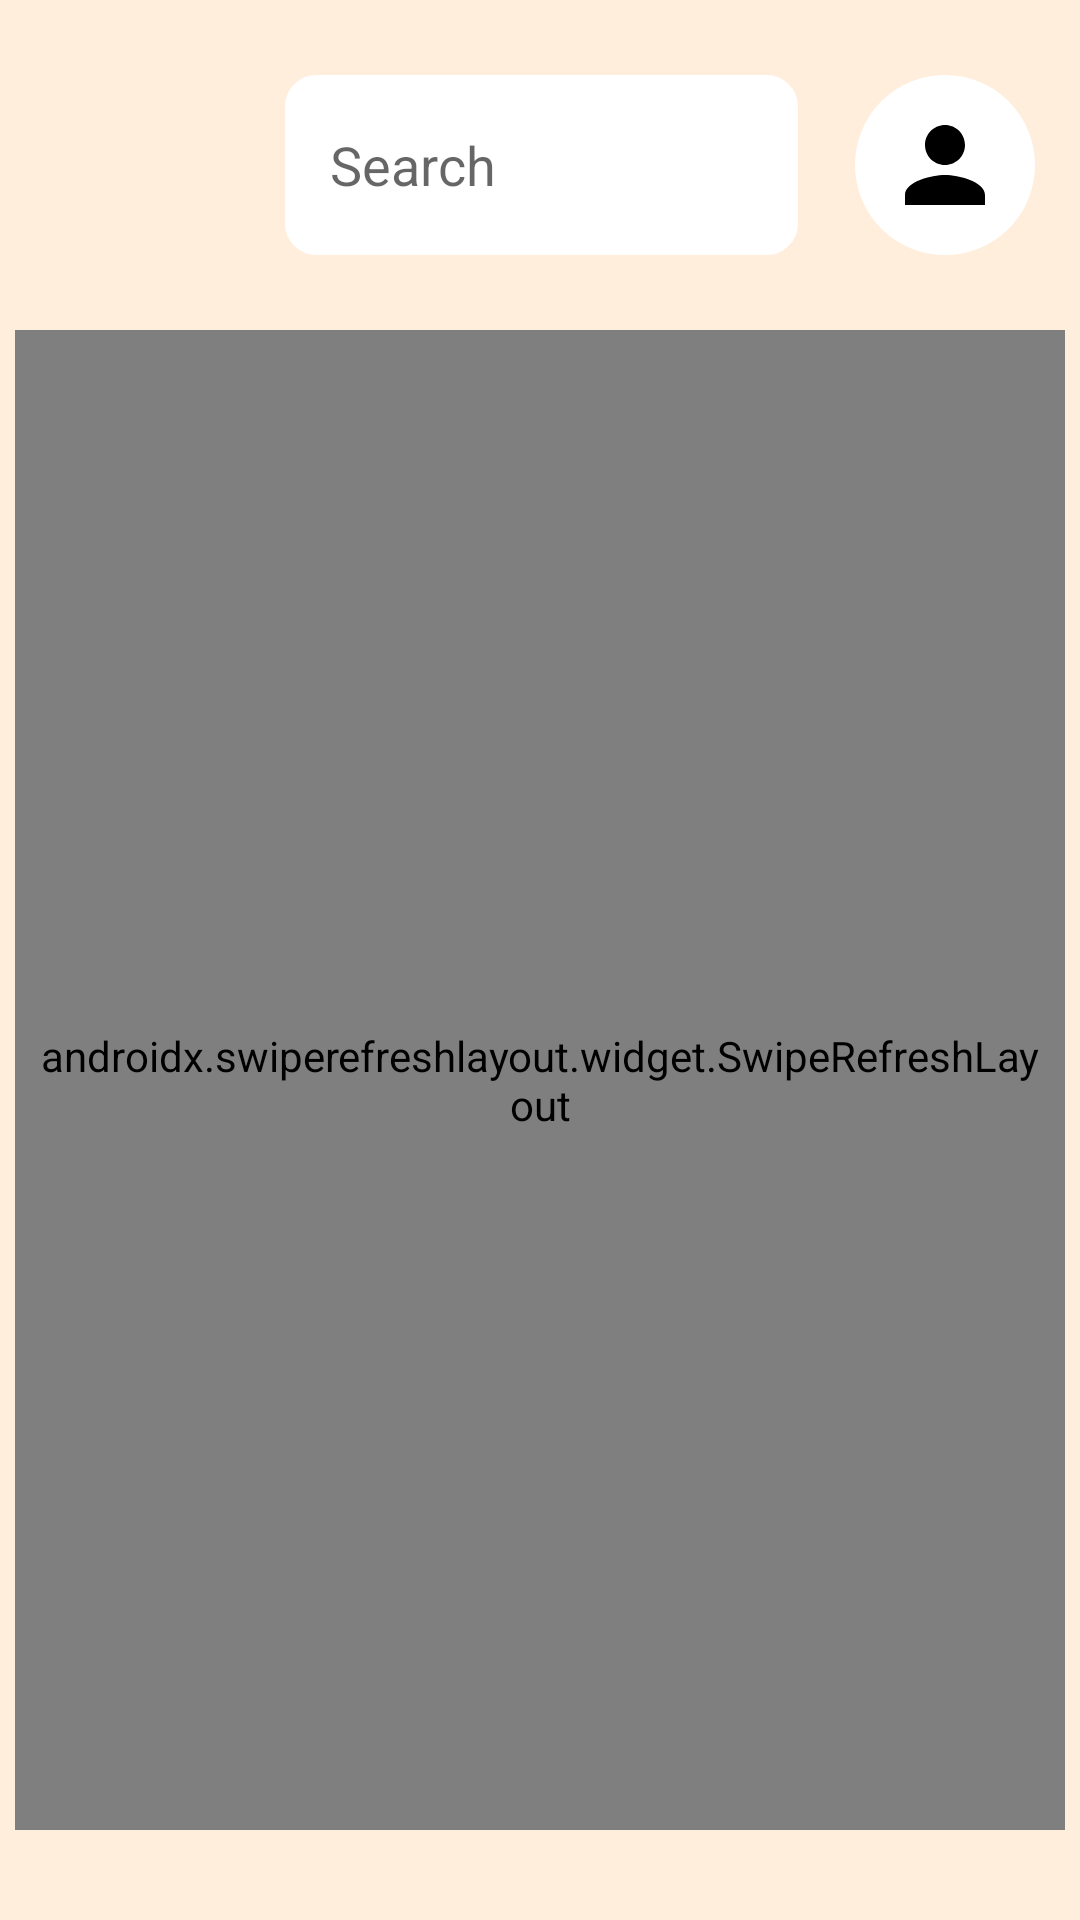

Where icons sit on this 1080px×1920px app screen, as [left=x1, top=y1, right=x2, bottom=y2]:
person: [left=855, top=75, right=1035, bottom=255]
